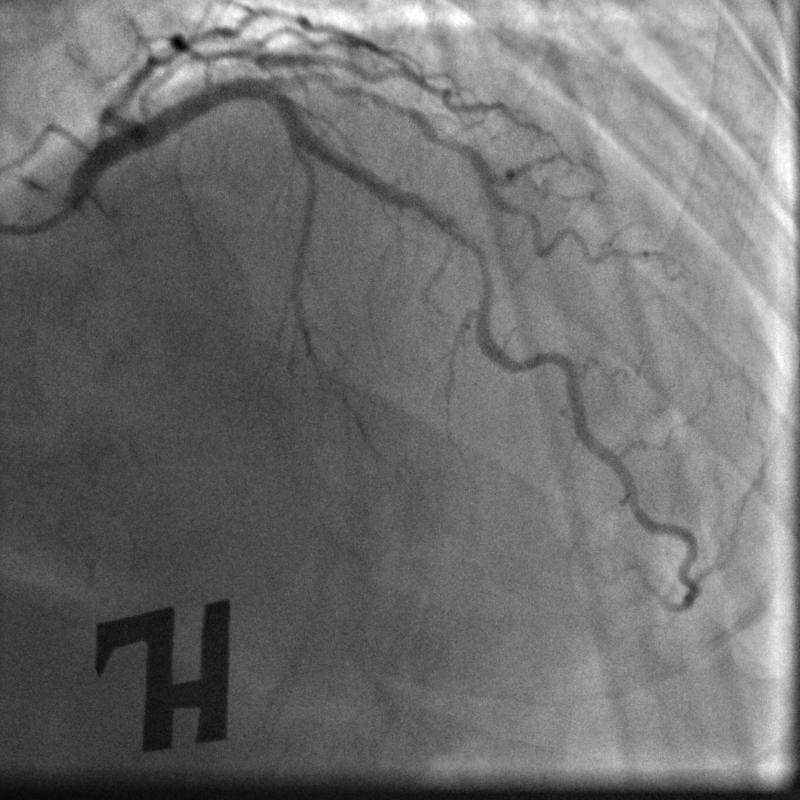Stenosis: (453, 228, 492, 302)
